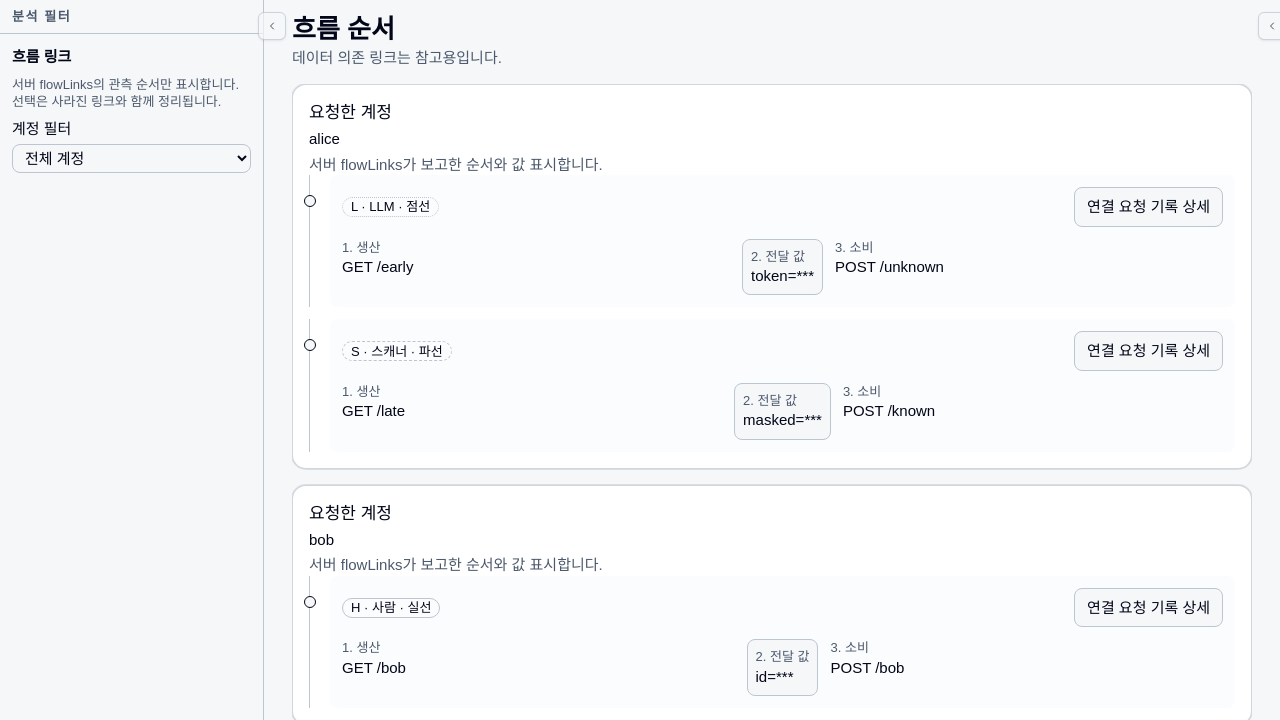
Test: renders only server flow links with source/operation/masked values, auxiliary notice, and exact structured 요청 기록 selection
The width and height of the screenshot is (1280, 720).
Expected: the text "데이터 의존 링크는 참고용입니다." is shown, [292,49,502,66]
Expected: the number of headings "1. 생산" is 2, [342,240,380,255]; [342,384,380,399]
What coordinates should you click on to do the following:
click the button with aria-label "흐름 링크 요청 기록 열기"
I would click on:
 (1149, 207)
Its box is [1074,187,1223,227].
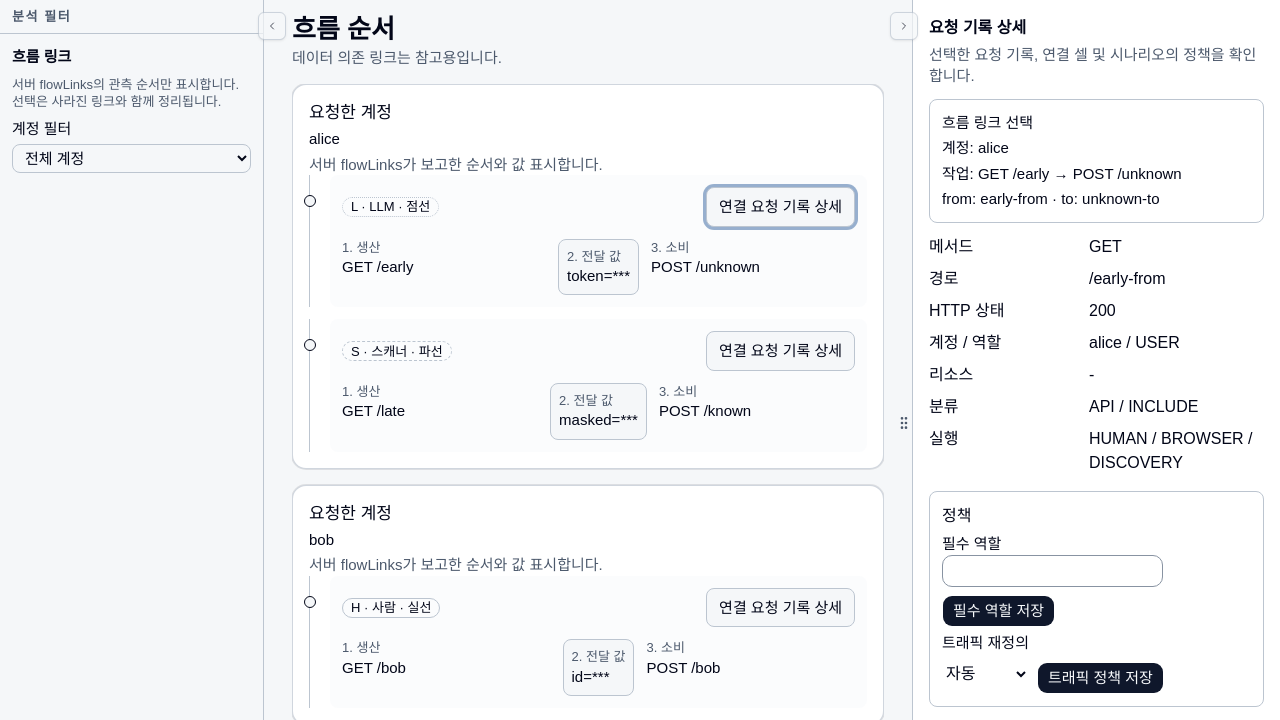
Now the text "from: early-from · to: unknown-to" is shown, box [942,190,1160,207]
